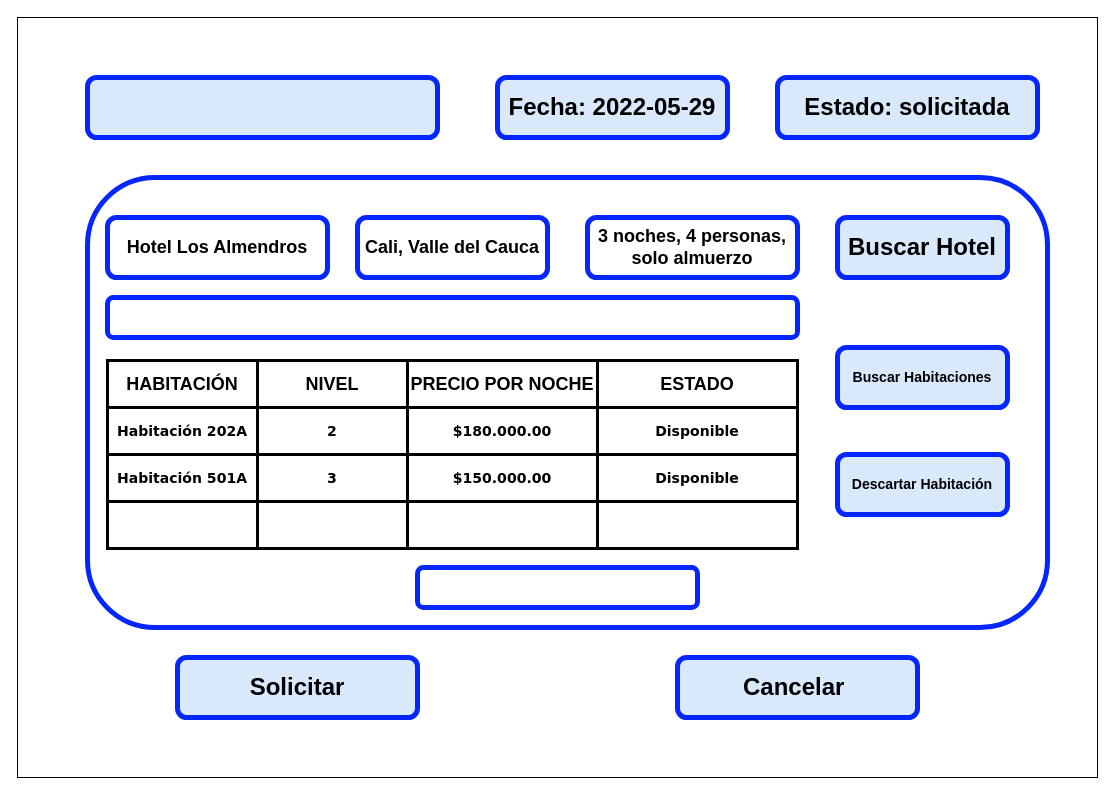
Image size: 1115x795. Some labels were removed from this diagram. Here are the shapes that lost their labels. From the top down, the centre of each, then its label:
At point 262,107: "Reserva de Hospedaje #001".
At point 452,317: "Este hotel no tiene restricciones para cancelar reservaciones".
At point 557,587: "Valor a cancelar: $330.000.00".
